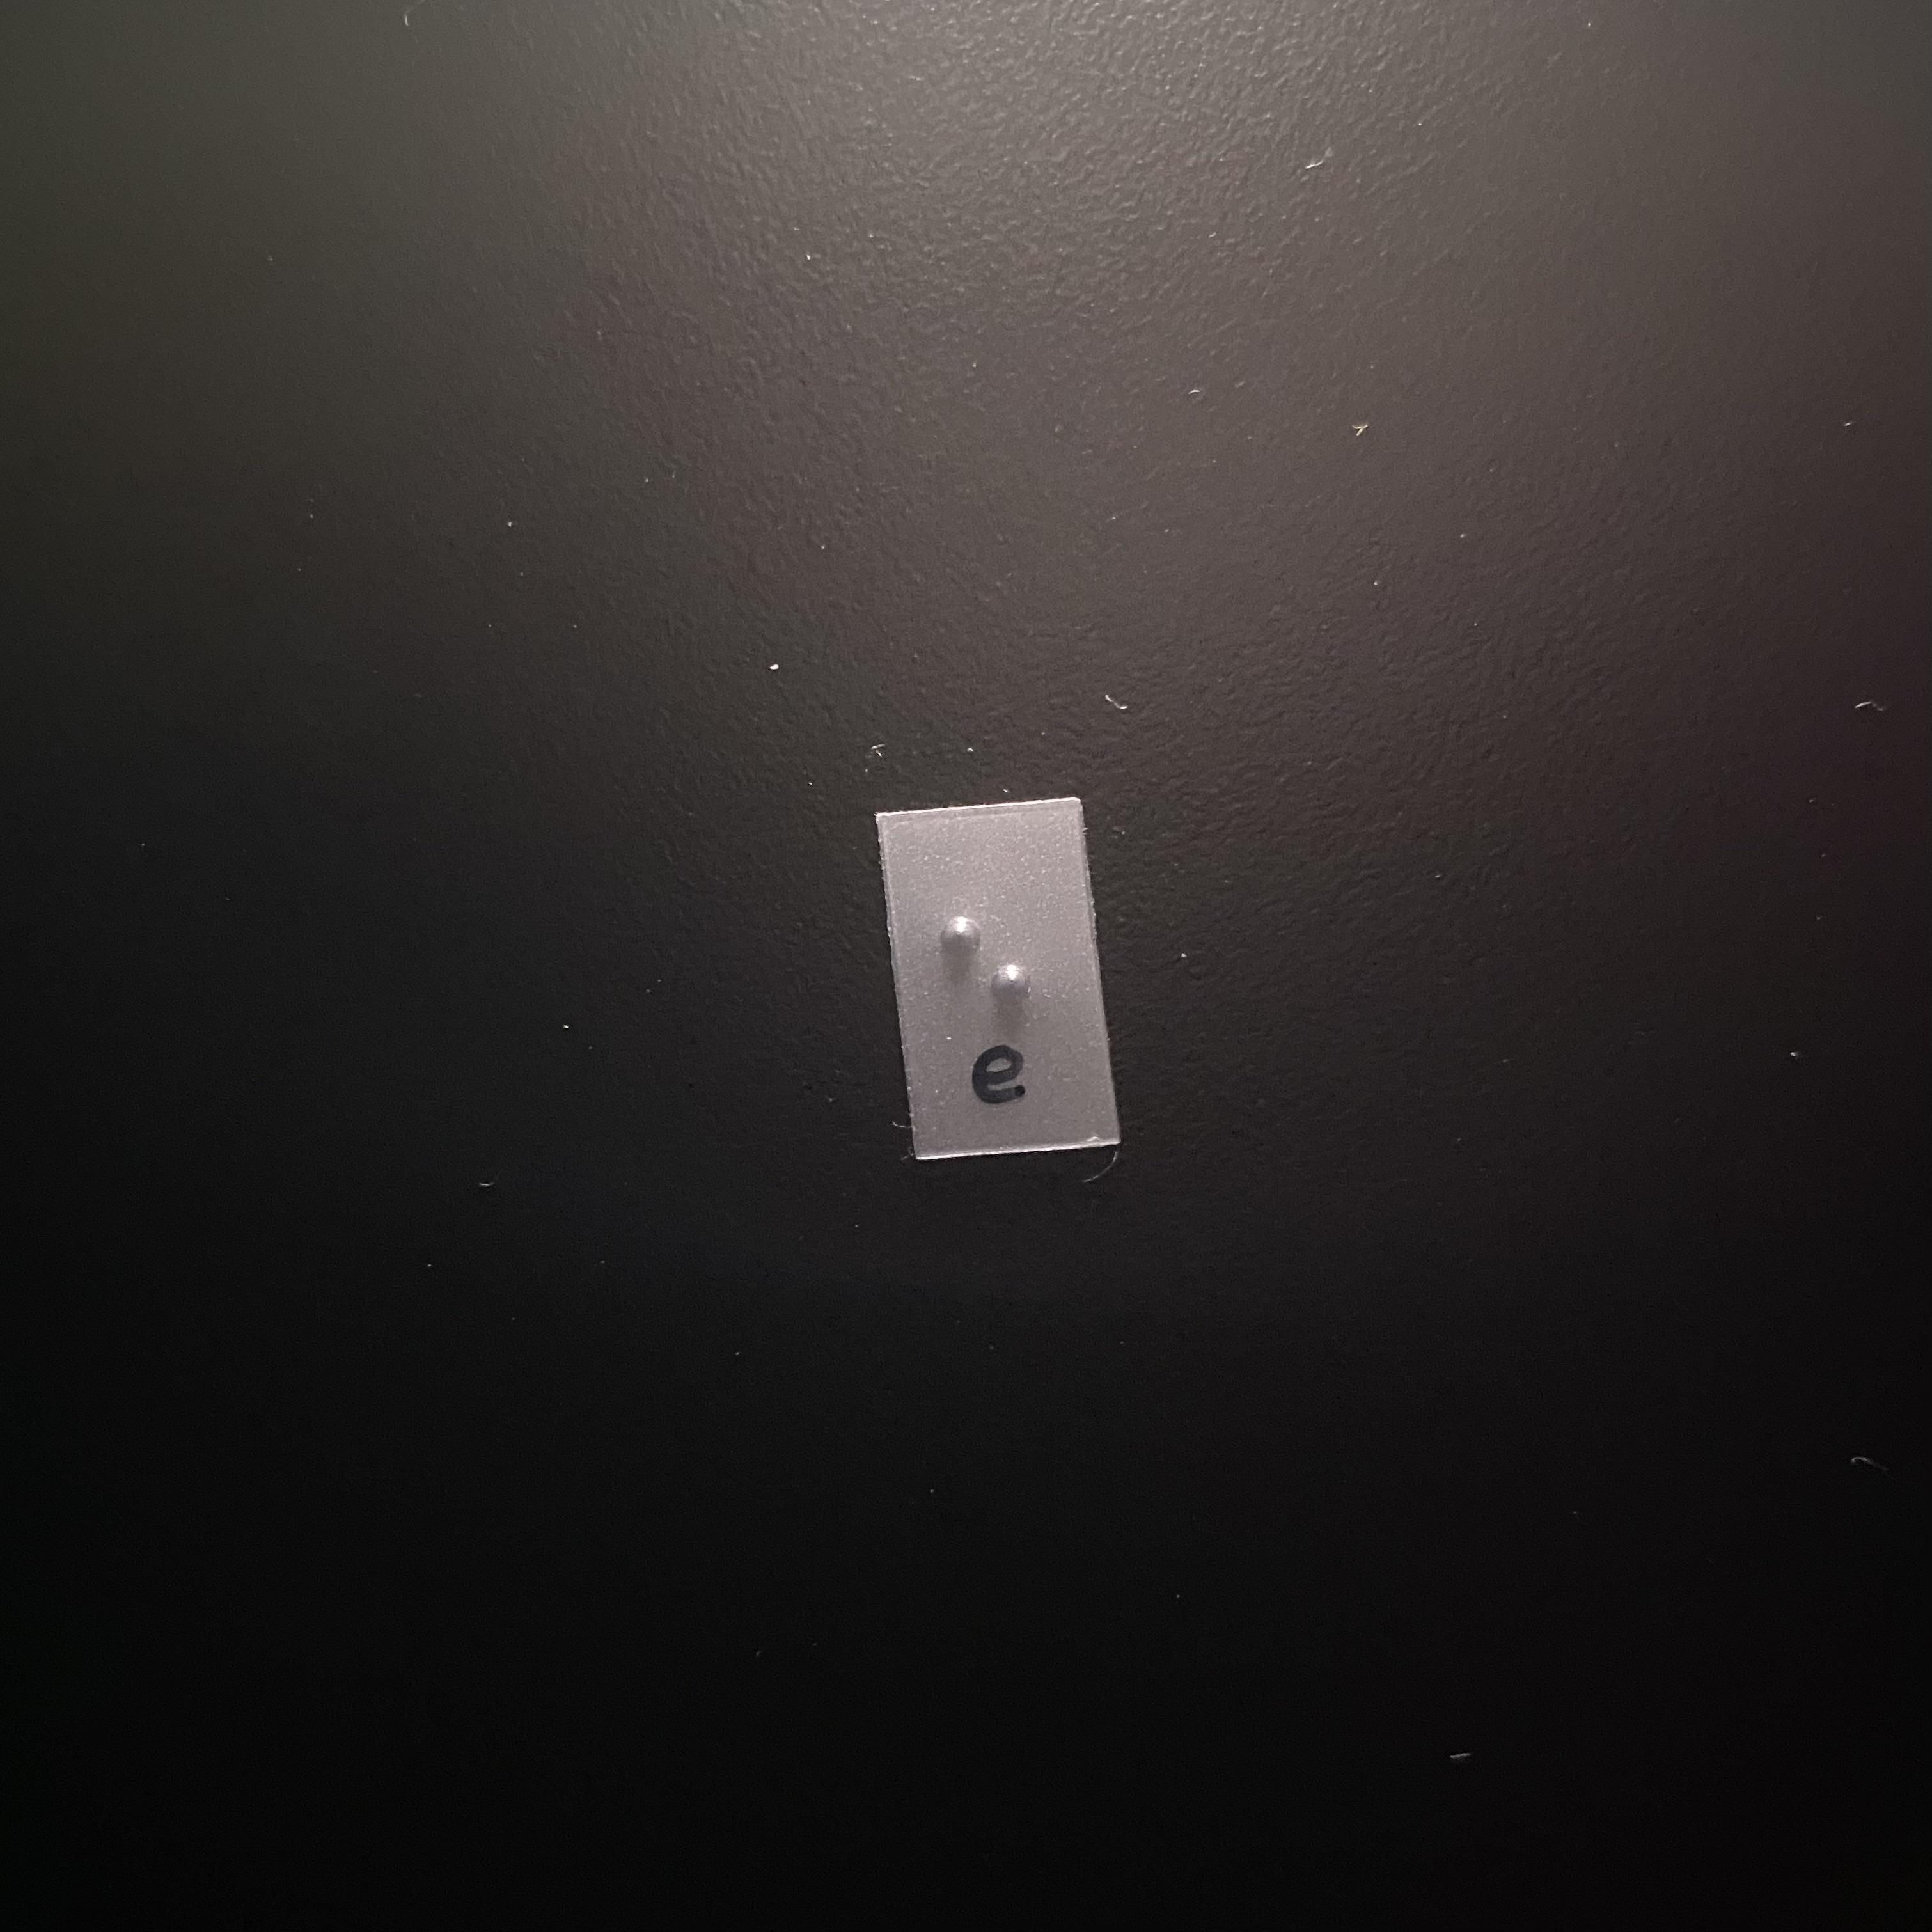e: (928, 896, 1056, 1079)
